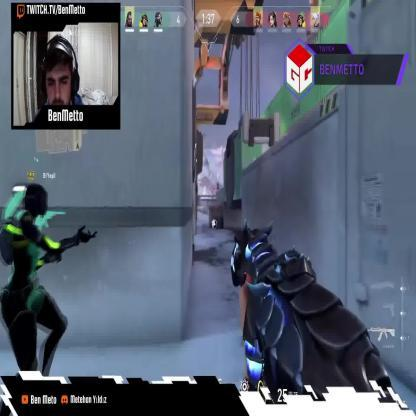enemy: (216, 180, 220, 192)
enemy_head: (217, 180, 219, 182)
